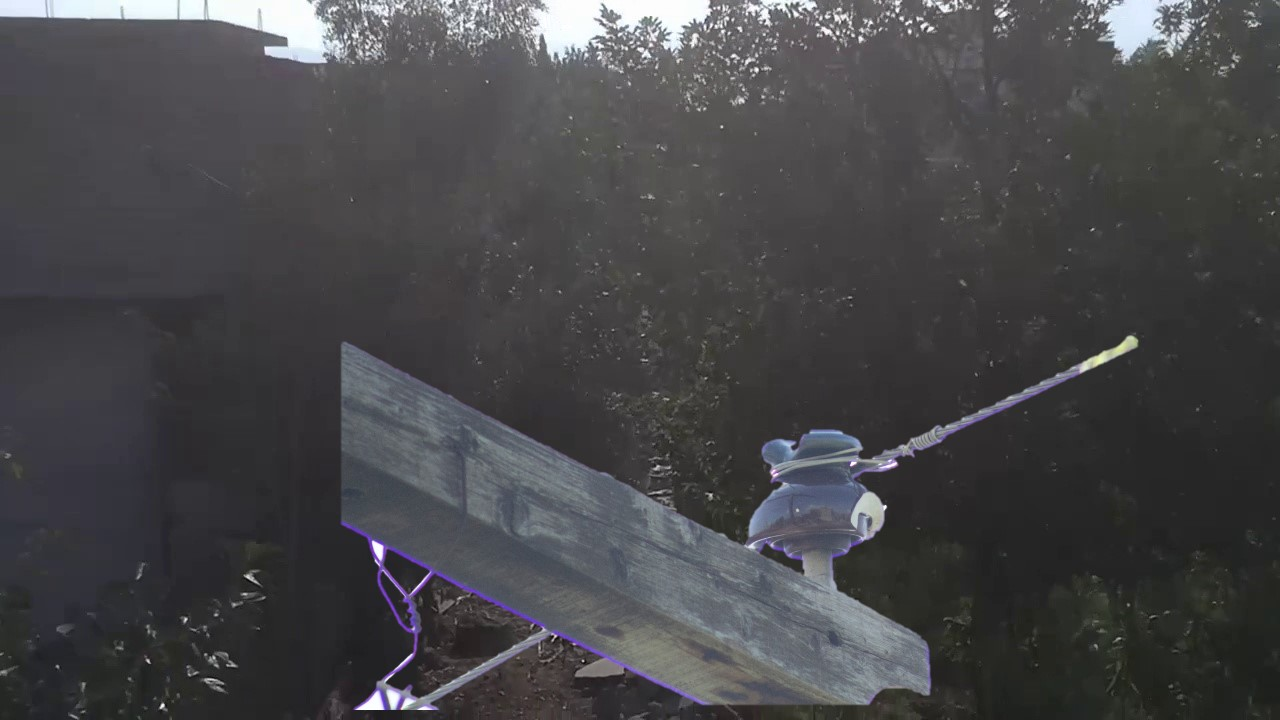defect_pin: (742, 425, 889, 559)
